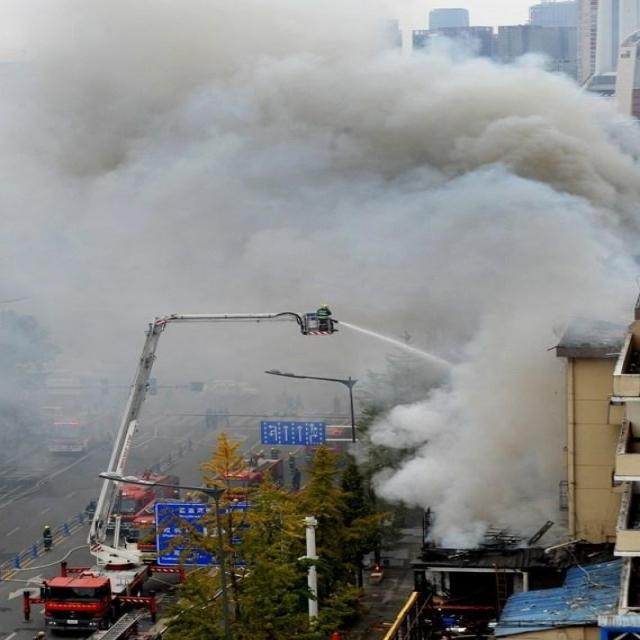Smoke: (1, 1, 639, 553)
